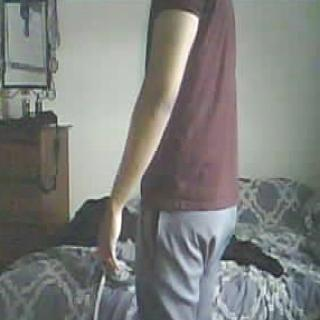Blue Sweatpants: (138, 203, 232, 320)
Maroon T-Shirt: (139, 0, 237, 209)
